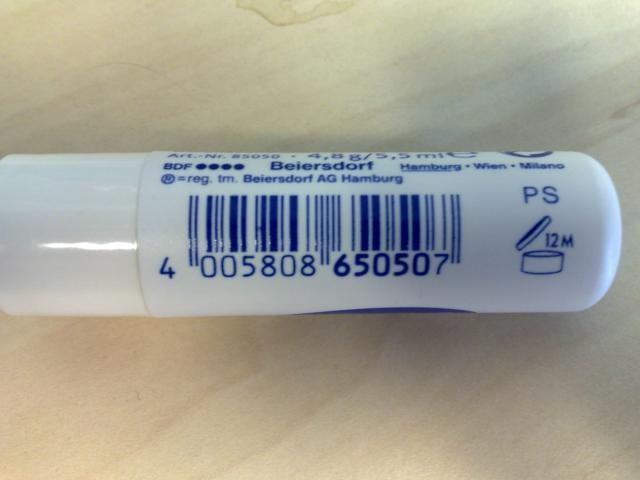Barcode: (151, 187, 482, 297)
